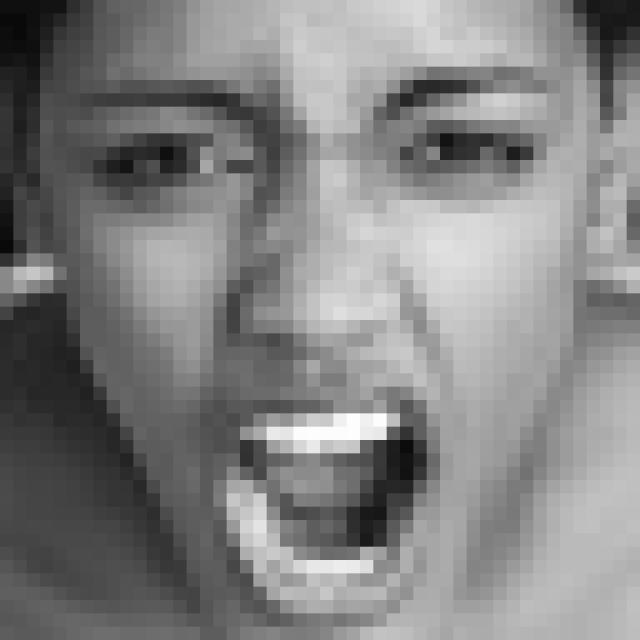angry: (76, 63, 562, 613)
